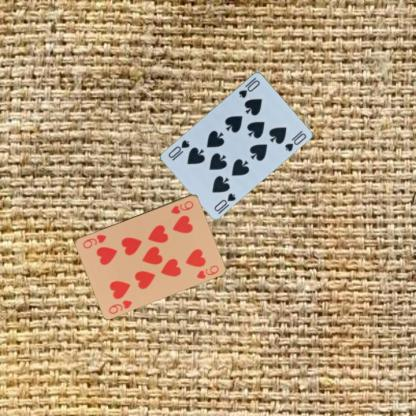10s: (211, 190, 237, 213), (236, 78, 261, 100)
9h: (106, 297, 133, 315), (168, 198, 195, 215)
